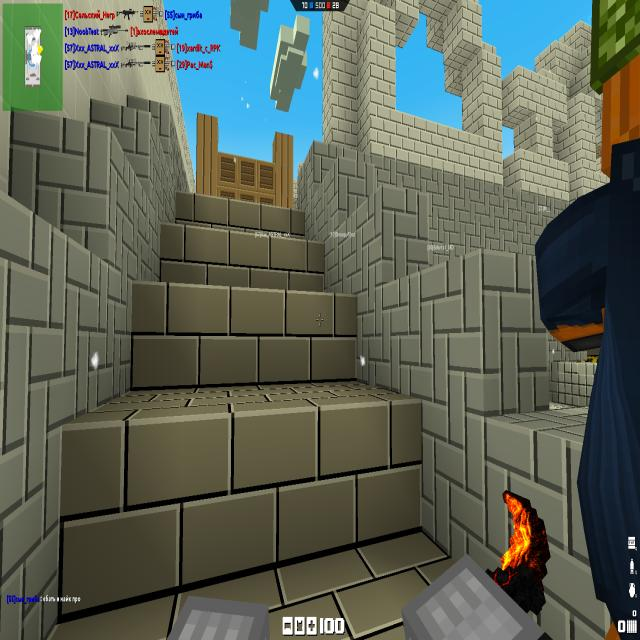player: (528, 4, 640, 626)
